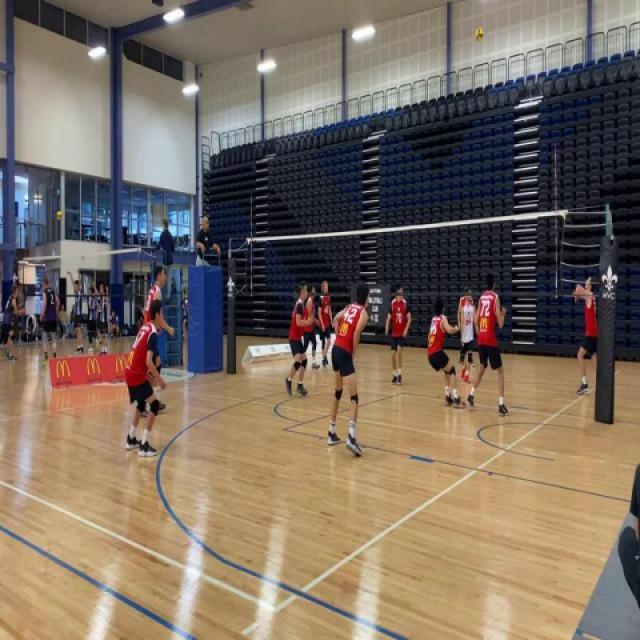volleyball: (475, 26, 484, 42), (56, 208, 64, 223)
